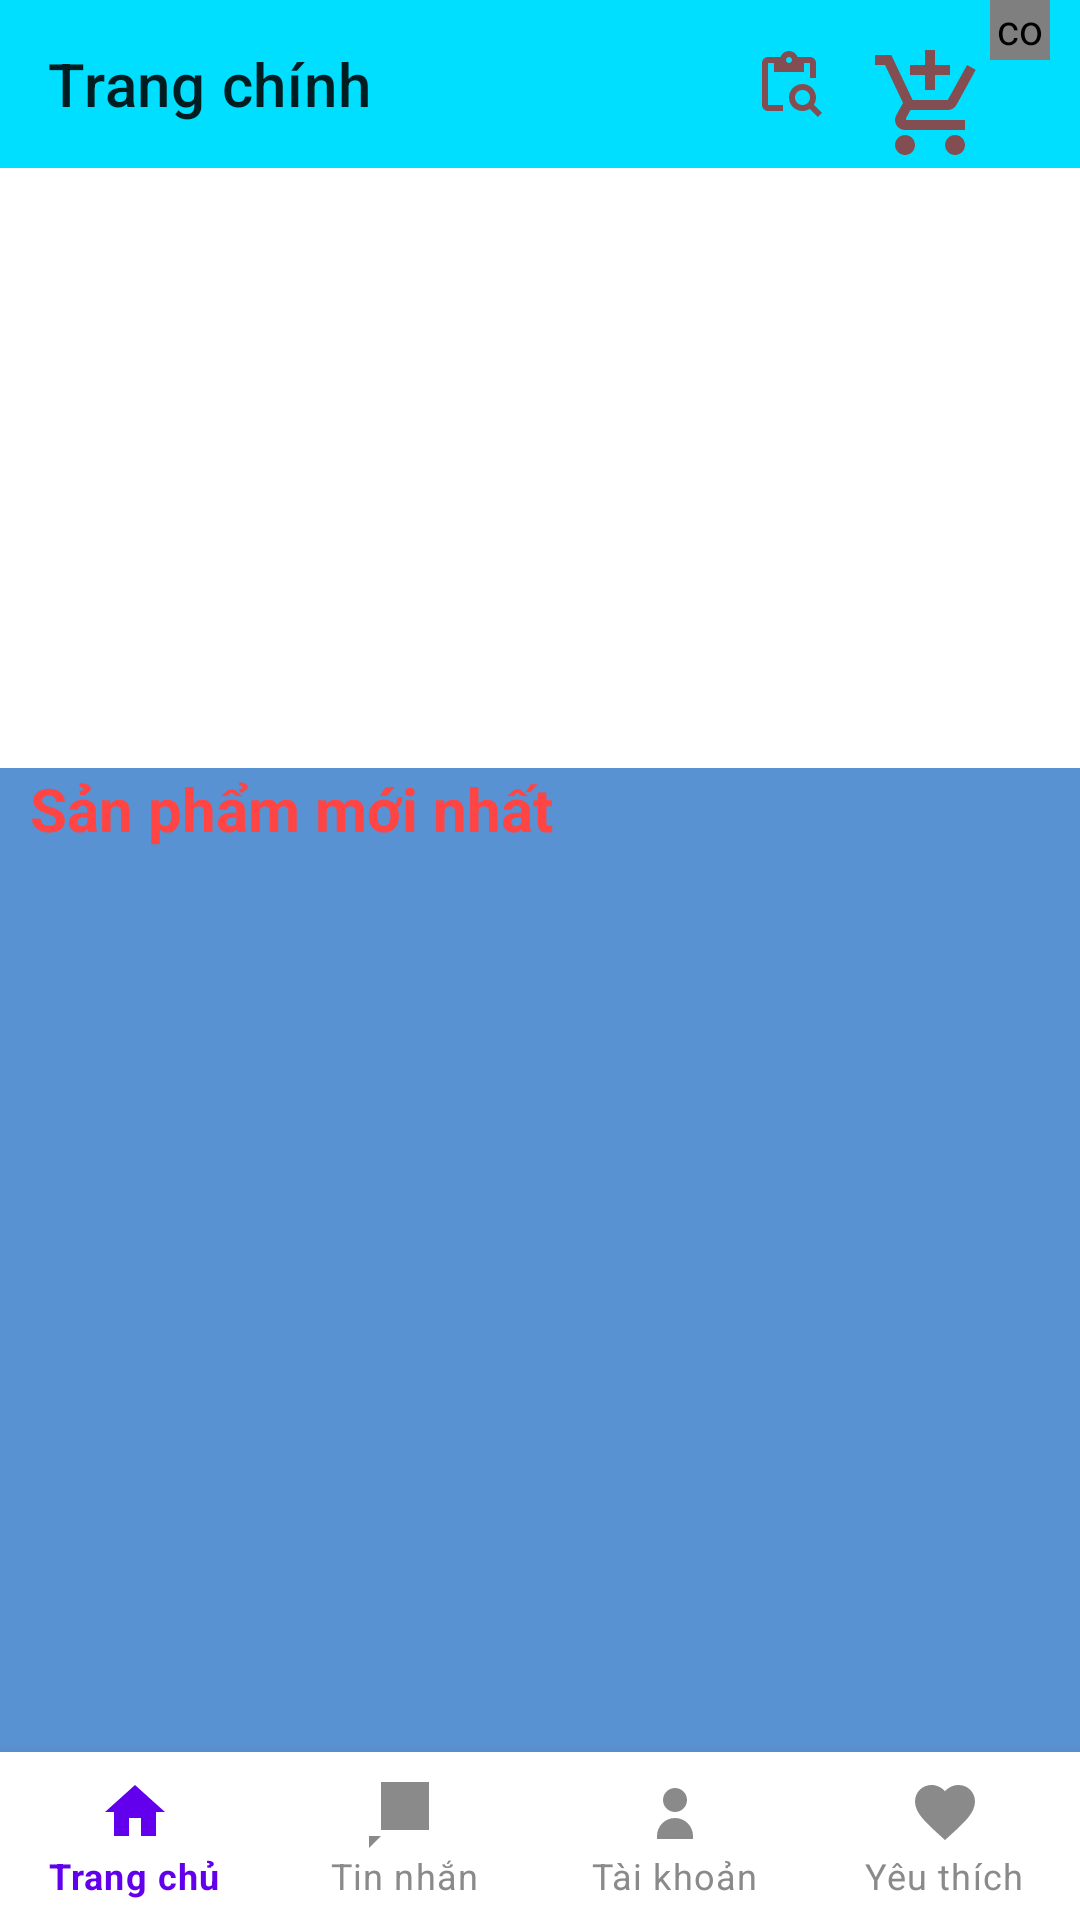

Where icons sit on this 1080px×1920px app screen, as (x1, y1, x2, y2):
cart: (875, 50, 976, 155)
search: (762, 51, 822, 117)
